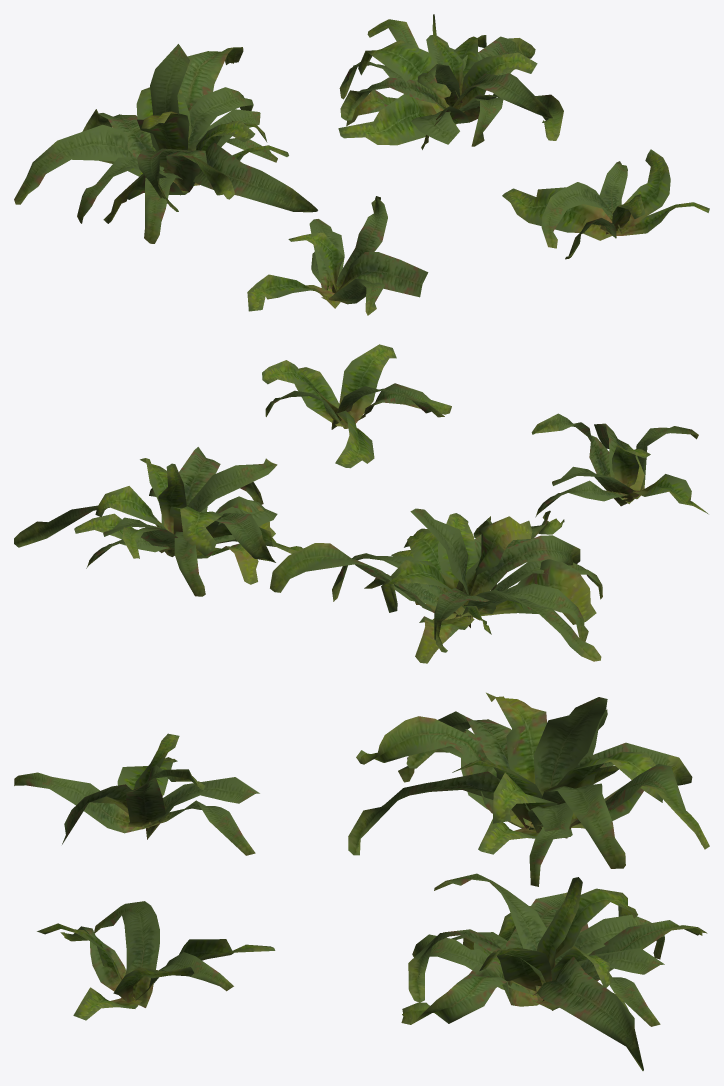
File: fern.glb
The picture shows the model from 3 angles, top to bottom: view 1: azimuth 30°, elevation 25°; view 2: azimuth 150°, elevation 25°; view 3: azimuth 270°, elevation 25°; orthographic projection. The views are drawn at different scales.
Visible parts, largest first — view 1: fern_02_b; view 2: fern_02_b; view 3: fern_02_b.
Part boxes in pixels (bbox=[...]): fern_02_b: bbox=[14, 14, 709, 315]; fern_02_b: bbox=[14, 344, 708, 663]; fern_02_b: bbox=[14, 692, 709, 1070].
Bounding box in the file's own units: 1.97 × 0.4277 × 1.72.
Materials: 1 (1 with a texture image).
